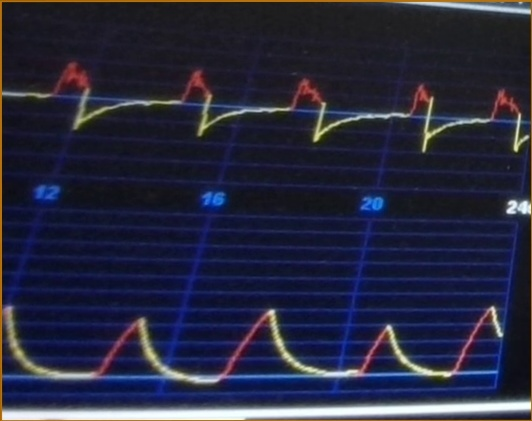Accumulation Flow: (3, 49, 530, 163)
Volume: (2, 284, 505, 393)
